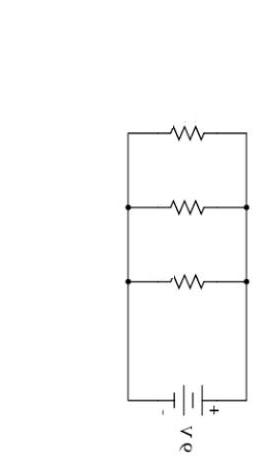resistor: (158, 259, 220, 306), (158, 184, 223, 224), (154, 114, 219, 148)
